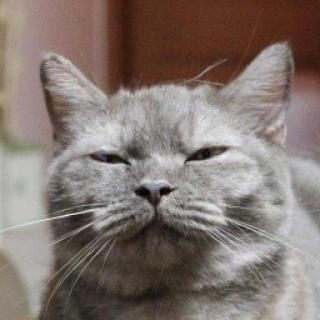cat: (35, 43, 298, 279)
nose: (135, 176, 174, 210)
